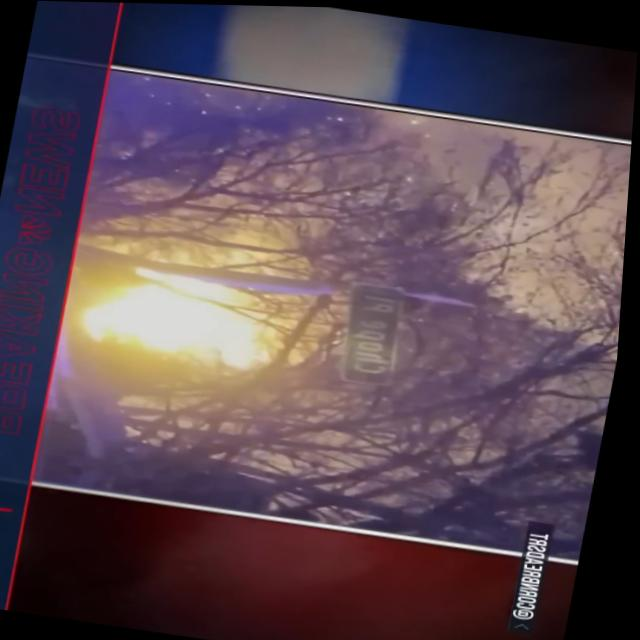Fire: (66, 219, 329, 397)
